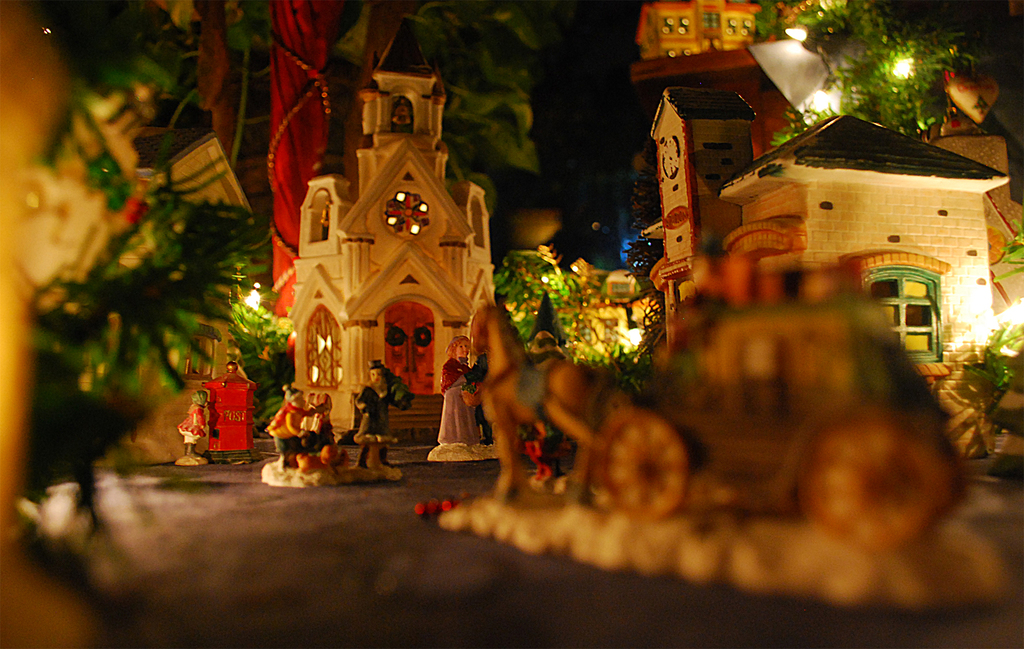person: (434, 334, 491, 447)
